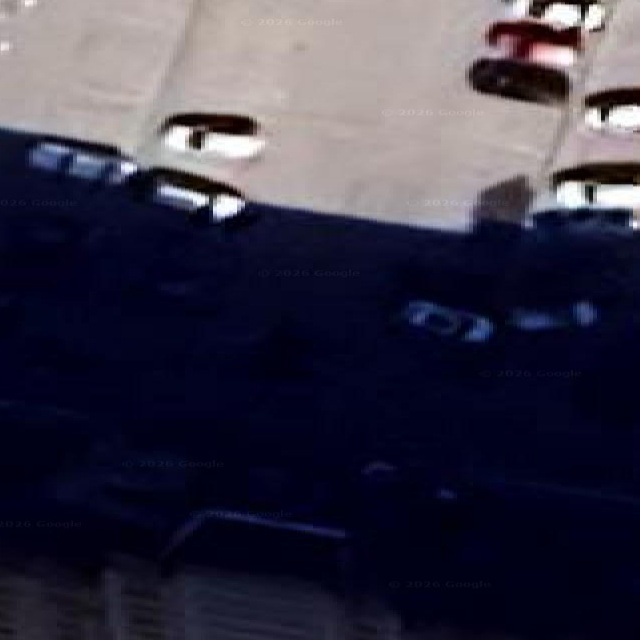car: (27, 139, 243, 223), (51, 442, 187, 531), (468, 20, 582, 103), (163, 508, 347, 552), (145, 168, 243, 223), (27, 138, 139, 183), (160, 112, 263, 159), (468, 57, 571, 103), (484, 20, 582, 68), (552, 163, 639, 209), (400, 300, 492, 342), (508, 0, 606, 31), (507, 300, 596, 331), (527, 207, 637, 232), (584, 88, 639, 134), (555, 180, 639, 207), (0, 0, 36, 54), (27, 140, 71, 172), (108, 158, 139, 183), (0, 0, 36, 19), (360, 460, 395, 476)
